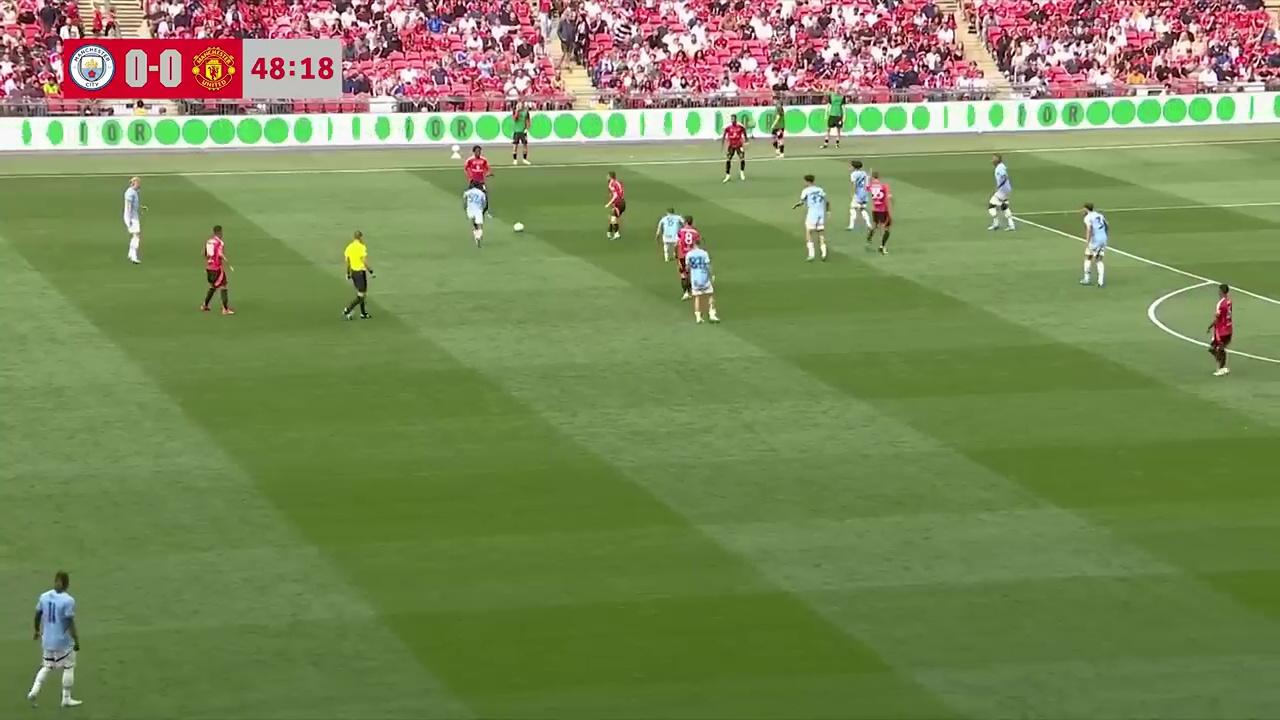ball: (512, 219, 524, 233)
player: (26, 570, 80, 711), (792, 174, 830, 261), (199, 225, 234, 316), (687, 234, 719, 322), (1207, 283, 1233, 376), (1080, 204, 1108, 288), (987, 154, 1016, 232), (122, 174, 147, 263), (866, 173, 893, 253), (462, 148, 494, 200), (463, 182, 488, 248), (674, 223, 695, 299), (655, 207, 683, 262), (722, 122, 747, 183), (604, 171, 626, 239), (847, 168, 871, 230)
referee: (342, 230, 376, 321)
